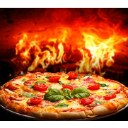pepperonipizza: (6, 73, 128, 115)
